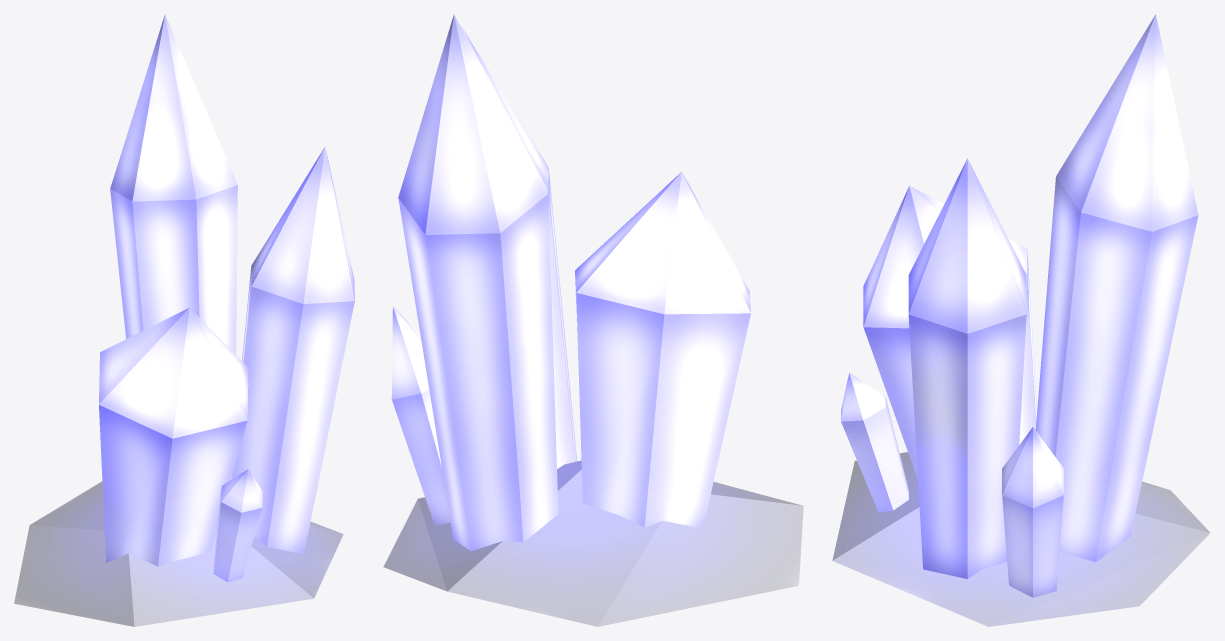
Rendered from Crystal_02.fbx.
3 renders of one model, left to right at view 1: azimuth 30°, elevation 25°; view 2: azimuth 150°, elevation 25°; view 3: azimuth 270°, elevation 25°, orthographic. The views are drawn at different scales.
Visible parts, largest first — view 1: pCylinder6; view 2: pCylinder6; view 3: pCylinder6.
Boxes of the visible parts, left/top/right/bottom form: pCylinder6: left=14, top=14, right=354, bottom=626; pCylinder6: left=383, top=14, right=803, bottom=626; pCylinder6: left=832, top=14, right=1210, bottom=626.
Size of the model in its own units: 69.32 by 99.16 by 61.23.
